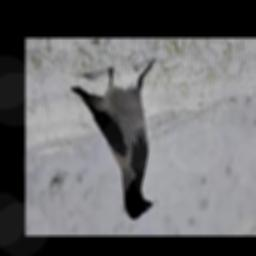Crow: (70, 60, 154, 221)
